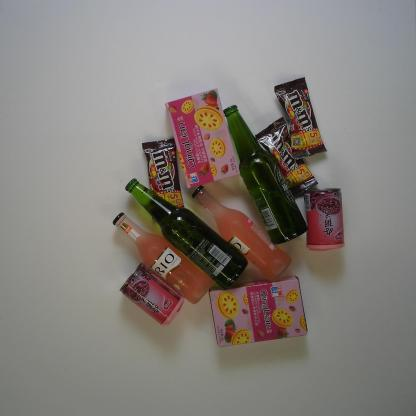Alcohol: (125, 177, 251, 292), (219, 100, 310, 248), (188, 182, 296, 284), (111, 208, 216, 306)
Canned Food: (118, 261, 186, 330), (301, 185, 346, 254)
Chocolate: (255, 114, 321, 200), (272, 74, 329, 162), (139, 137, 187, 215)
Dessert: (164, 86, 243, 192), (206, 273, 310, 348)
